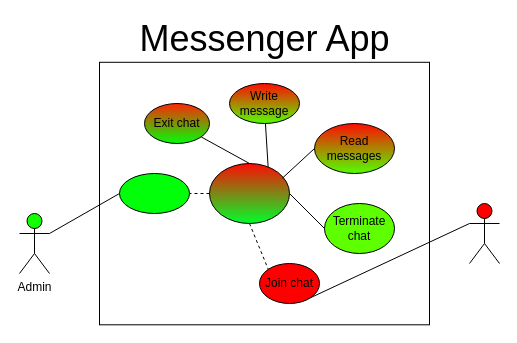
Some shapes in this 517 by 343 pixel diagram are drawn without their labels. Here are the shapes that lost their labels. From the top down, the centre of each, then its label:
[154,193]: Create chat
[249,193]: Enter a chat
[484,233]: Client
